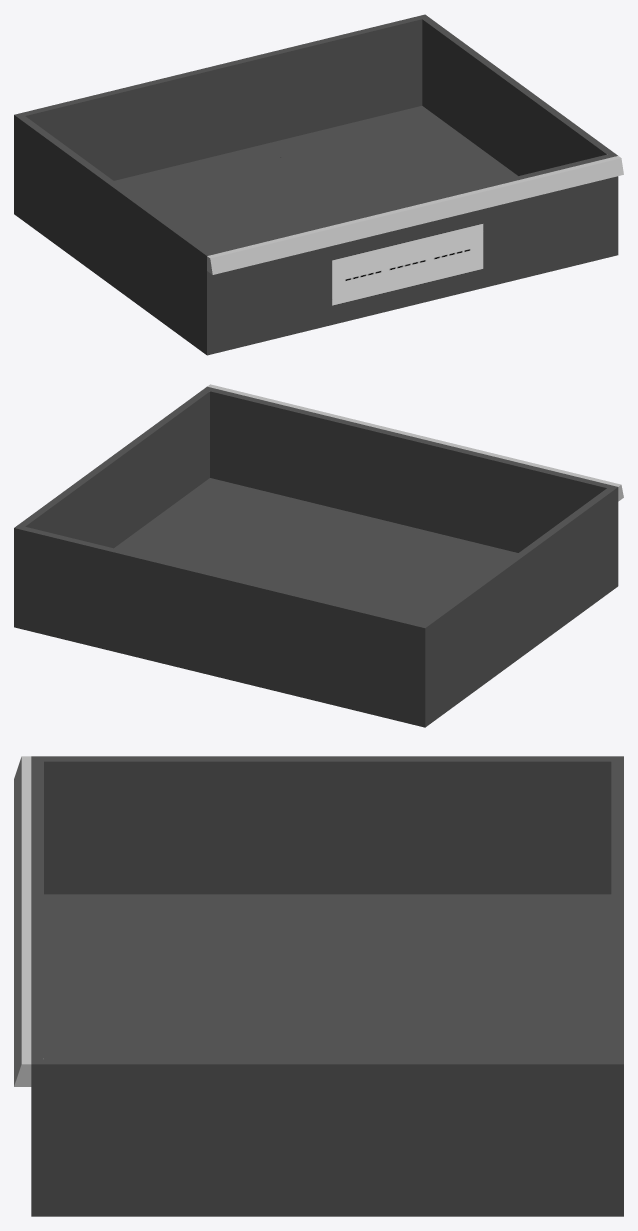
Rendered from MedCartBigDrawerSplit.fbx.
3 renders of one model, top to bottom at view 1: azimuth 30°, elevation 25°; view 2: azimuth 150°, elevation 25°; view 3: azimuth 270°, elevation 25°, orthographic. The views are drawn at different scales.
Parts seen in each view (by area): view 1: Drawer.005, Drawer.011, Drawer.013, Drawer.012, Drawer.010, Drawer.009; view 2: Drawer.011, Drawer.005, Drawer.013, Drawer.012, Drawer.010, Drawer.009; view 3: Drawer.013, Drawer.010, Drawer.012, Drawer.009, Drawer.005, Drawer.011.
Part boxes in pixels (bbox=[...]): Drawer.005: bbox=[207, 154, 618, 355]; Drawer.011: bbox=[14, 14, 424, 180]; Drawer.013: bbox=[114, 106, 517, 251]; Drawer.012: bbox=[14, 115, 209, 354]; Drawer.010: bbox=[422, 14, 617, 175]; Drawer.009: bbox=[207, 156, 623, 274]; Drawer.011: bbox=[14, 526, 425, 727]; Drawer.005: bbox=[207, 386, 617, 552]; Drawer.013: bbox=[114, 478, 517, 623]; Drawer.012: bbox=[422, 487, 618, 727]; Drawer.010: bbox=[14, 387, 209, 548]; Drawer.009: bbox=[207, 384, 623, 501]; Drawer.013: bbox=[44, 894, 611, 1058]; Drawer.010: bbox=[31, 1059, 623, 1216]; Drawer.012: bbox=[32, 756, 622, 894]; Drawer.009: bbox=[14, 756, 31, 1086]; Drawer.005: bbox=[31, 756, 43, 1063]; Drawer.011: bbox=[611, 756, 623, 1063].
Bounding box in the file's own units: 83.52 × 19.29 × 69.92.
